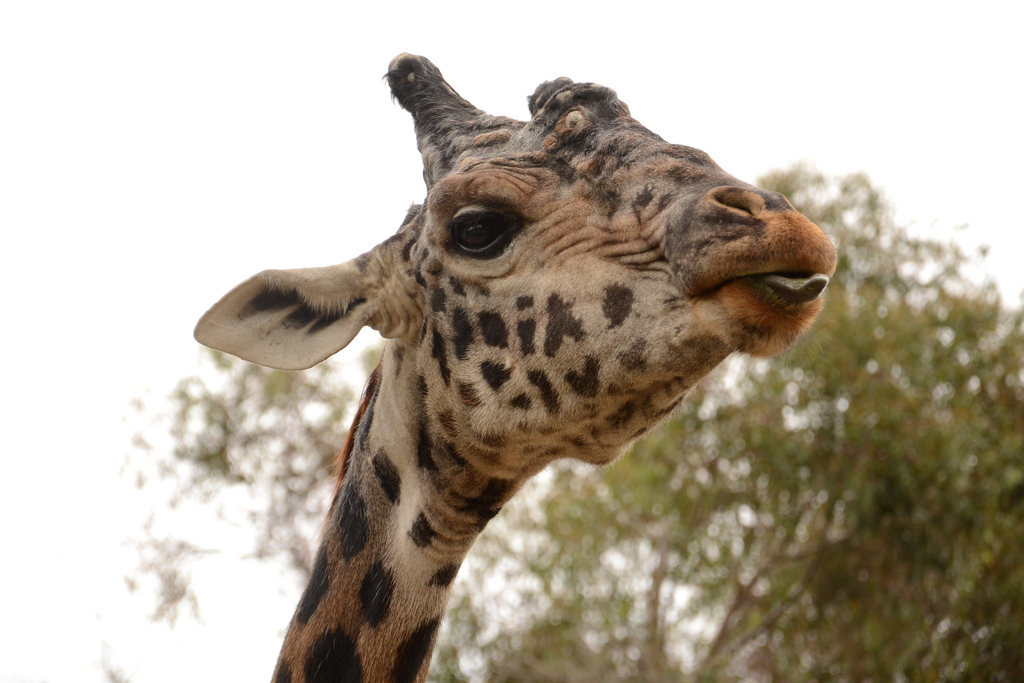giraffe: (223, 45, 856, 651)
